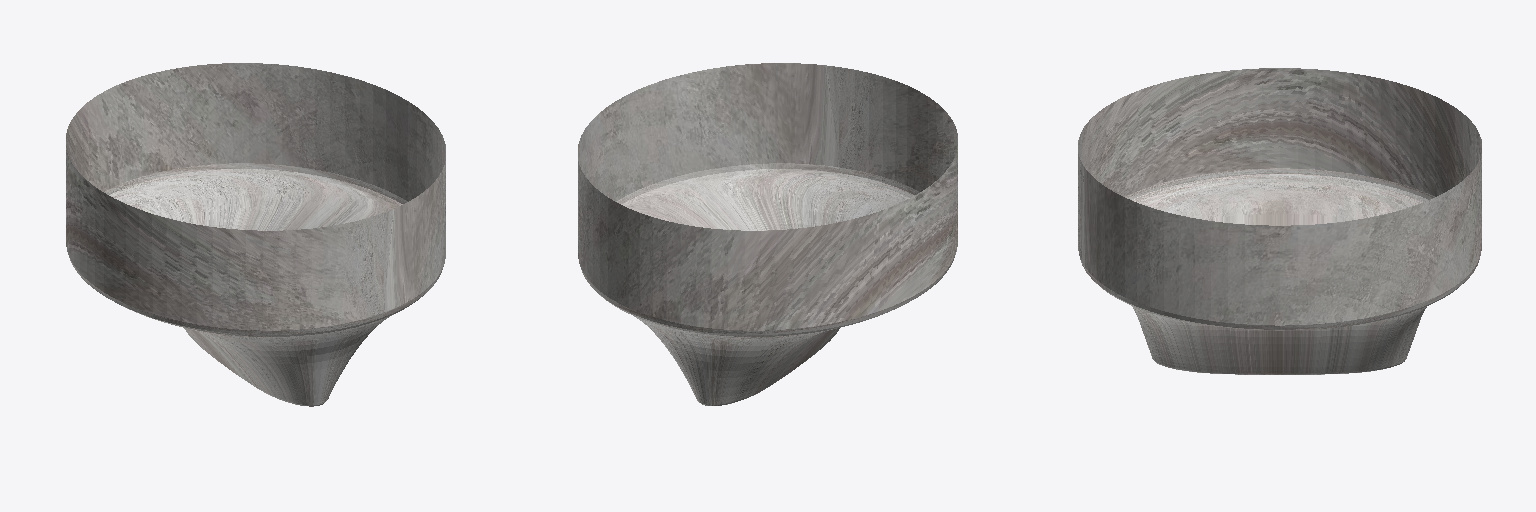
3 renders of one model, left to right at view 1: azimuth 30°, elevation 25°; view 2: azimuth 150°, elevation 25°; view 3: azimuth 270°, elevation 25°, orthographic.
Size of the model in its own units: 0.4655 by 0.3005 by 0.5051.
Materials: 1 (1 with a texture image).